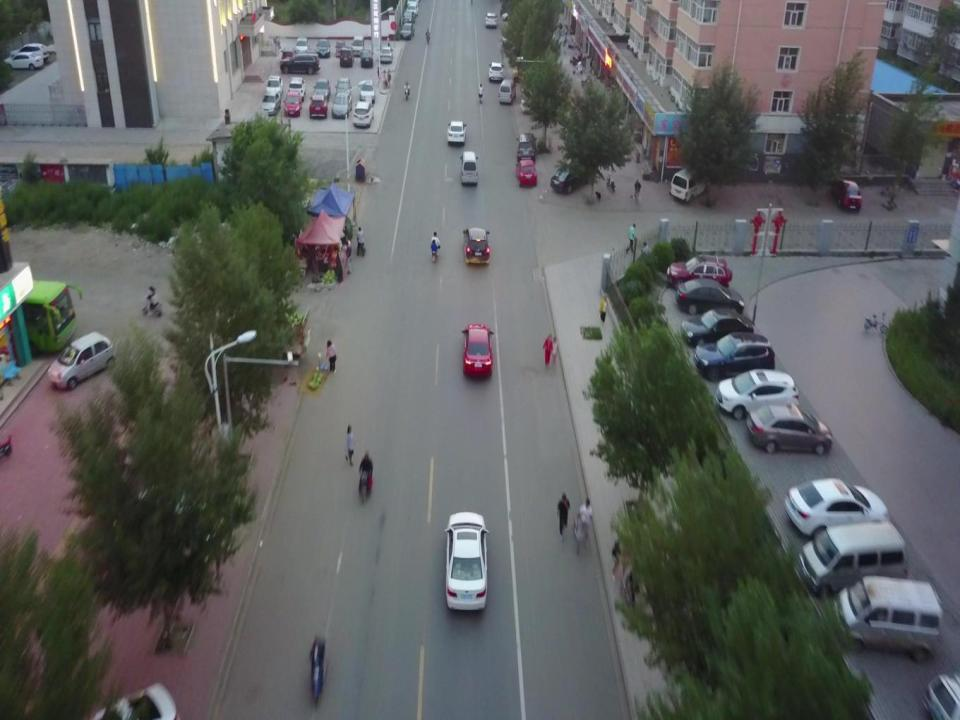bus: (6, 279, 84, 354)
car: (785, 476, 888, 540), (444, 510, 491, 613), (745, 404, 833, 454), (716, 369, 800, 421), (693, 330, 776, 382), (47, 330, 116, 391), (89, 675, 186, 718), (678, 307, 758, 345), (675, 277, 746, 315), (665, 255, 733, 291), (462, 322, 494, 378), (550, 164, 598, 193), (830, 178, 862, 212), (462, 228, 491, 265), (280, 53, 320, 74), (9, 42, 50, 62), (2, 52, 45, 70), (515, 159, 537, 187), (516, 133, 537, 162), (353, 101, 374, 128), (331, 93, 352, 119), (283, 90, 302, 117), (447, 120, 467, 145), (309, 93, 328, 119), (260, 92, 281, 115), (288, 76, 306, 100), (264, 74, 283, 96), (360, 78, 376, 104), (335, 77, 352, 100), (313, 78, 330, 99), (488, 61, 504, 82), (316, 38, 331, 57), (280, 47, 295, 66), (399, 22, 414, 40), (360, 50, 373, 68), (379, 47, 393, 63), (400, 10, 416, 24), (484, 12, 498, 27), (406, 4, 418, 16)
van: (831, 574, 944, 662), (794, 520, 907, 602), (670, 165, 710, 203), (460, 150, 478, 186), (498, 79, 518, 105), (340, 46, 354, 68), (295, 37, 309, 56), (352, 35, 364, 56), (334, 38, 346, 56)
